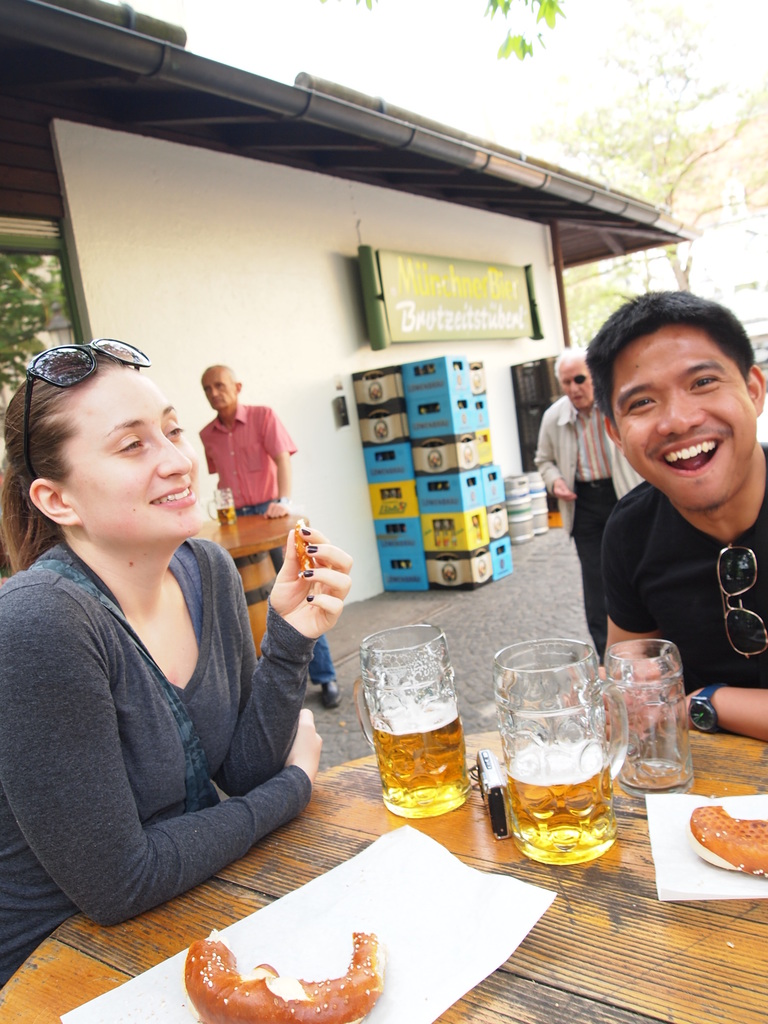Beer: (496, 743, 613, 867), (377, 693, 465, 805)
